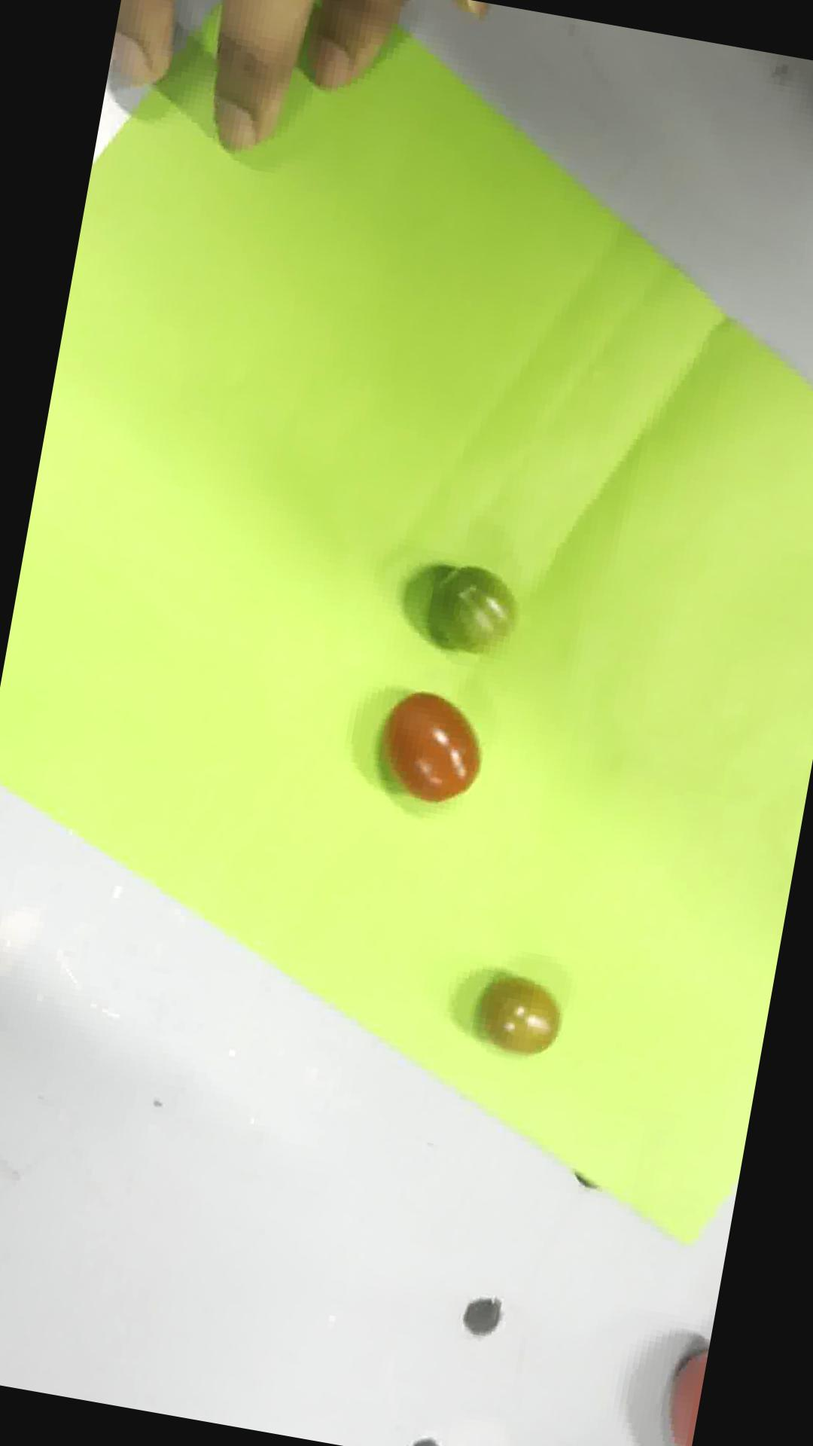green_cherry_tomato: (427, 565, 517, 652)
red_cherry_tomato: (382, 692, 481, 803)
yellow_cherry_tomato: (479, 975, 560, 1055)
